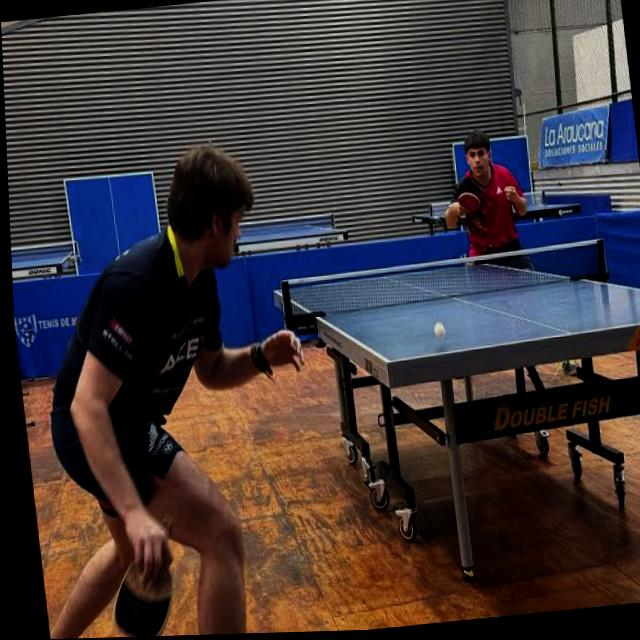TT Net: (278, 235, 610, 325), (226, 212, 338, 239)
TT Racket: (106, 557, 185, 637), (452, 187, 486, 219)
TT Table: (274, 262, 640, 362), (232, 224, 348, 244)
